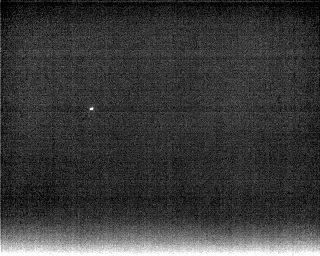BIRD: (87, 104, 96, 113)
